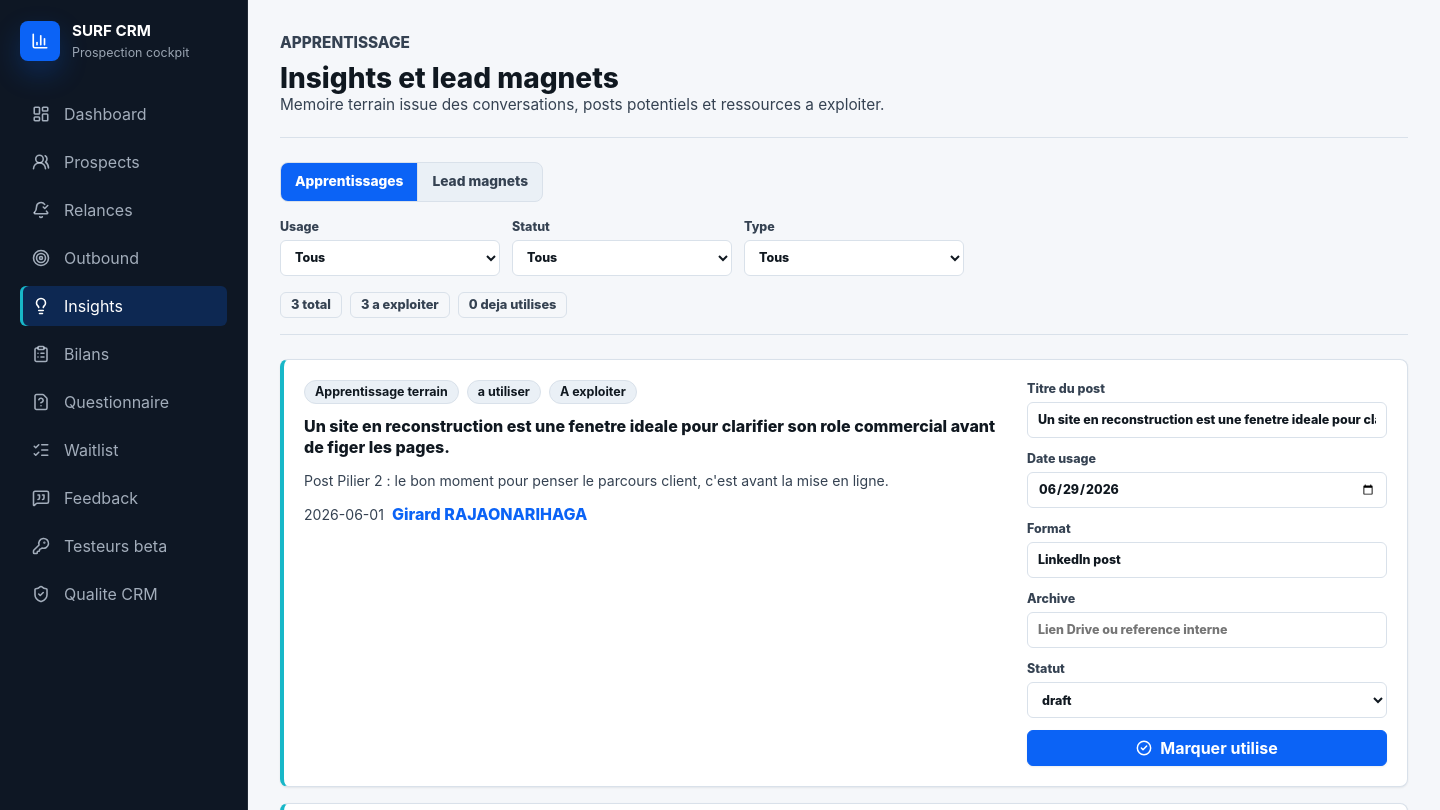
Test: App shell › renders insights and marks a learning as used in a post
This screenshot has width=1440, height=810.
Expected: the heading "Insights et lead magnets" is shown, [280, 61, 619, 95]
Expected: the heading "Un site en reconstruction" is shown, [304, 416, 995, 457]
Click the button "Marquer utilise" at (1207, 748), box [1027, 730, 1387, 766]
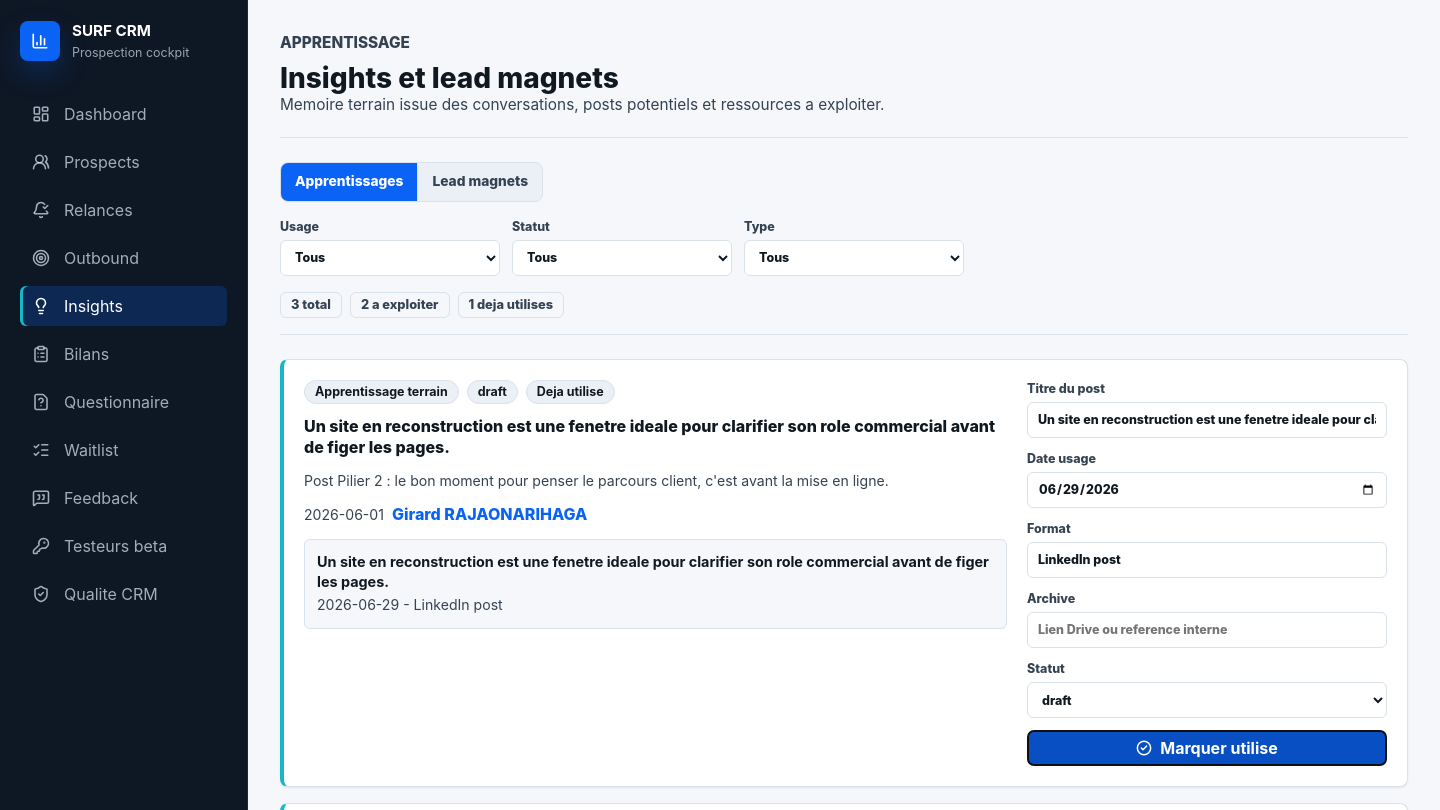
Result: the text "Deja utilise" is shown at [526, 380, 615, 404]
